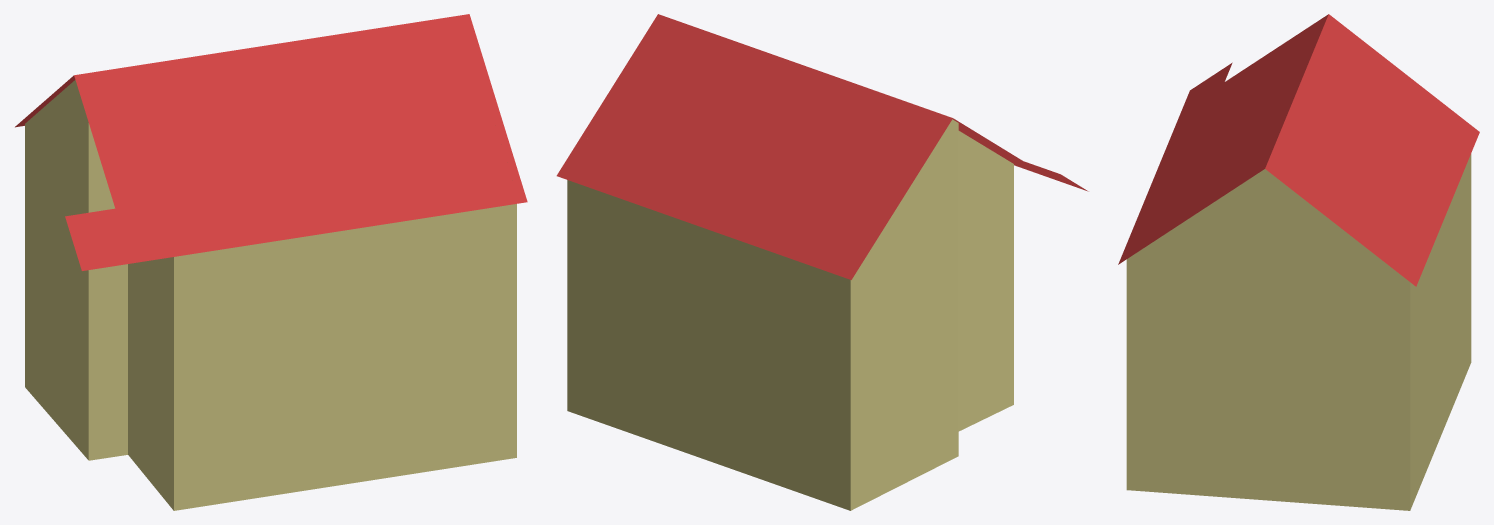
3 views of the same model, side by side, from view 1: azimuth 30°, elevation 25°; view 2: azimuth 150°, elevation 25°; view 3: azimuth 270°, elevation 25° (orthographic). The views are drawn at different scales.
Size of the model in its own units: 15.68 by 12.21 by 12.46.
